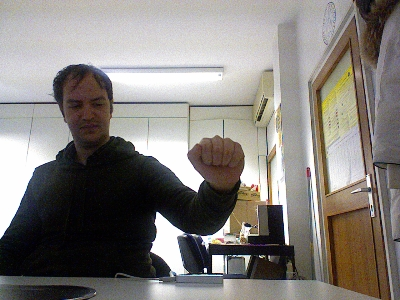石头: (186, 133, 246, 188)
